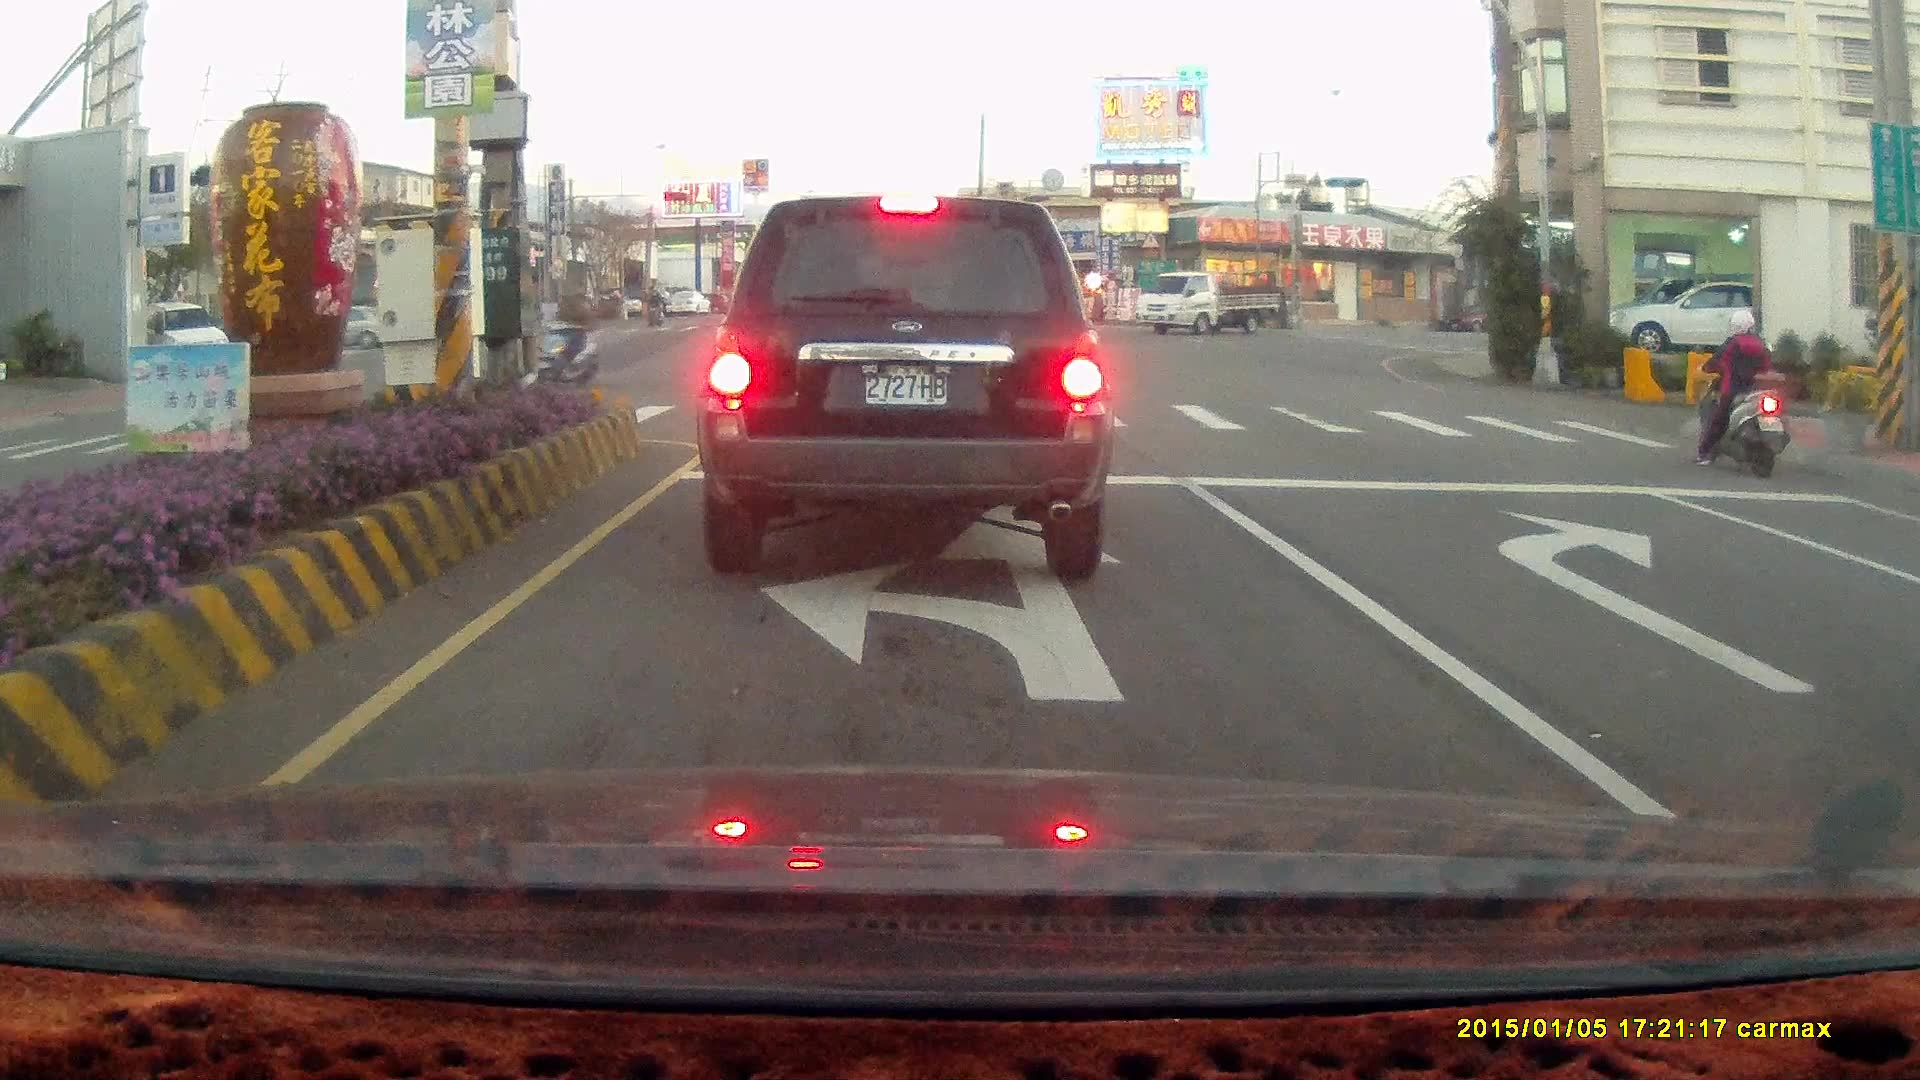rider: (1699, 308, 1795, 476), (527, 281, 602, 386), (647, 289, 668, 326)
vehicle: (694, 193, 1114, 580), (1600, 276, 1803, 357), (945, 263, 1091, 348), (1615, 278, 1753, 352), (1142, 271, 1285, 339), (119, 300, 233, 382), (1896, 493, 1920, 836), (1883, 528, 1920, 690)
